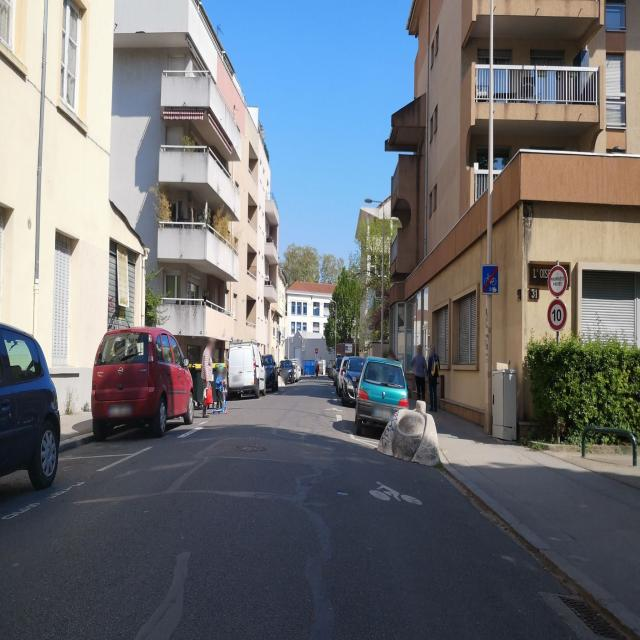car: (91, 322, 195, 439), (0, 318, 61, 494), (354, 355, 409, 435), (226, 340, 266, 398), (342, 354, 368, 406), (337, 354, 355, 394), (261, 352, 278, 391), (278, 358, 296, 383), (286, 358, 300, 381), (292, 358, 302, 378)
